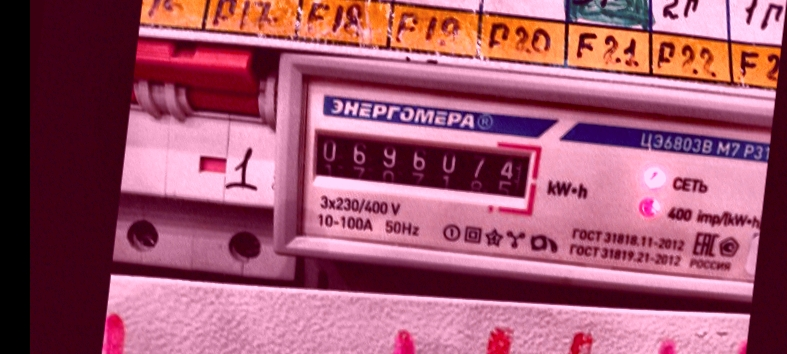0: (317, 134, 339, 160), (439, 146, 457, 173)
4: (497, 153, 515, 177)
5: (496, 178, 513, 195)
6: (410, 143, 430, 171), (349, 138, 369, 164)
7: (468, 151, 488, 178)
9: (379, 141, 398, 168)
screen: (298, 114, 545, 210)
